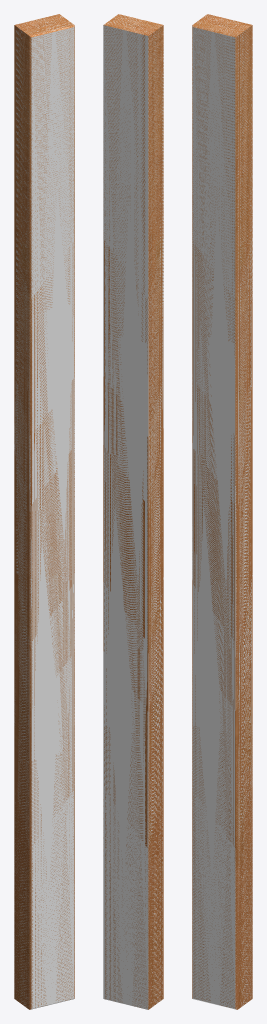
Rendered from original-21.obj.
The picture shows the model from 3 angles, left to right: view 1: azimuth 30°, elevation 25°; view 2: azimuth 150°, elevation 25°; view 3: azimuth 330°, elevation 25°; orthographic projection.
Parts seen in each view (by area): view 1: f_m_d_1_1/f_m_d_1/mesh31/mesh31-geometry#mesh31-geometry; view 2: f_m_d_1_1/f_m_d_1/mesh31/mesh31-geometry#mesh31-geometry; view 3: f_m_d_1_1/f_m_d_1/mesh31/mesh31-geometry#mesh31-geometry.
Part boxes in pixels (x1,y1,x2,y2): f_m_d_1_1/f_m_d_1/mesh31/mesh31-geometry#mesh31-geometry: (14,14,74,1009); f_m_d_1_1/f_m_d_1/mesh31/mesh31-geometry#mesh31-geometry: (103,14,163,1009); f_m_d_1_1/f_m_d_1/mesh31/mesh31-geometry#mesh31-geometry: (192,14,252,1009).
Size of the model in its own units: 0.0606 by 1.25 by 0.0369.
Materials: 4 (3 with a texture image).
